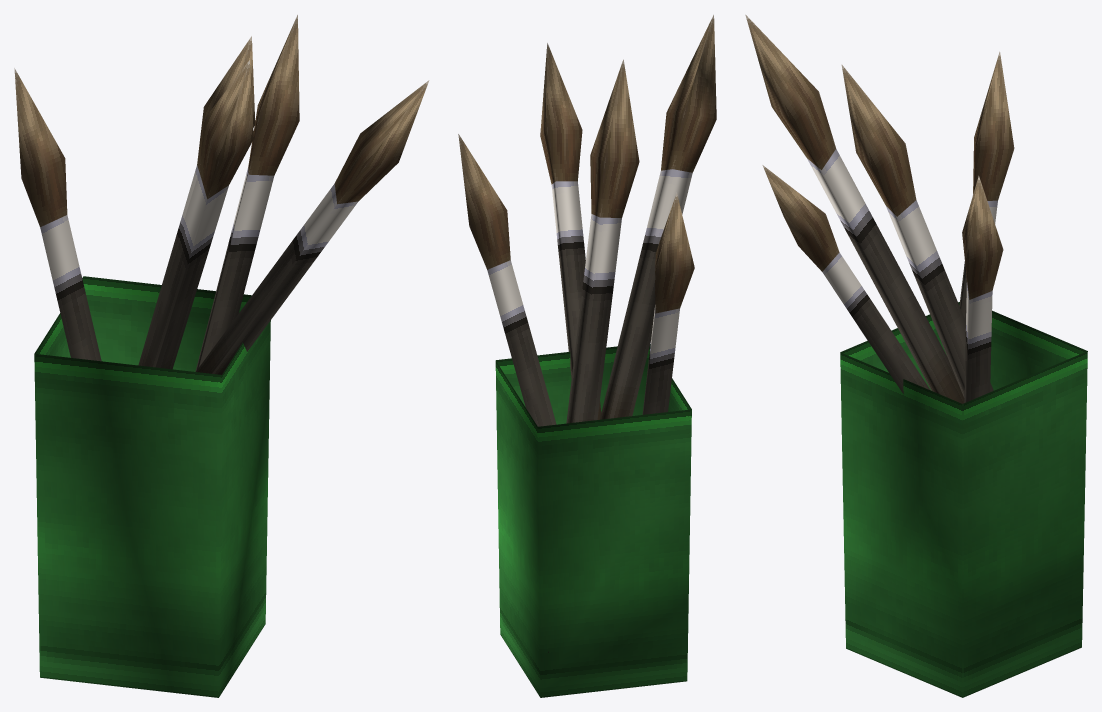
The model's file is a_SCbrush01.glb.
3 renders of one model, left to right at view 1: azimuth 30°, elevation 25°; view 2: azimuth 150°, elevation 25°; view 3: azimuth 270°, elevation 25°, orthographic. The views are drawn at different scales.
Visible parts, largest first — view 1: a_SCbrush01; view 2: a_SCbrush01; view 3: a_SCbrush01.
Part boxes in pixels (bbox=[...]): a_SCbrush01: bbox=[14, 14, 429, 697]; a_SCbrush01: bbox=[458, 14, 716, 697]; a_SCbrush01: bbox=[745, 14, 1087, 697].
Bounding box in the file's own units: 0.3269 × 0.7326 × 0.3647.
Materials: 1 (1 with a texture image).
